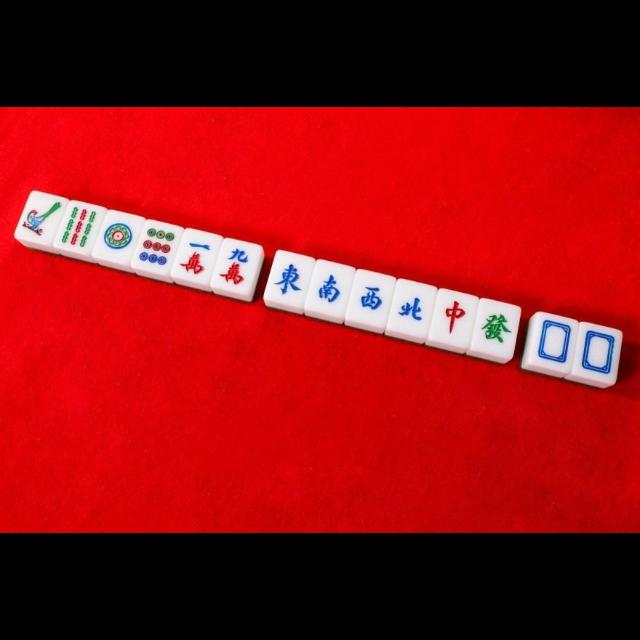b9: (58, 203, 100, 253)
c1: (176, 234, 218, 280)
c9: (216, 242, 256, 292)
d1: (98, 215, 138, 263)
d9: (135, 222, 179, 274)
dg: (475, 303, 517, 357)
dr: (436, 293, 474, 343)
dw: (532, 316, 574, 368), (577, 326, 617, 380)
we: (268, 255, 310, 305)
wn: (391, 284, 433, 336)
ws: (310, 264, 350, 312)
ww: (352, 273, 391, 321)
